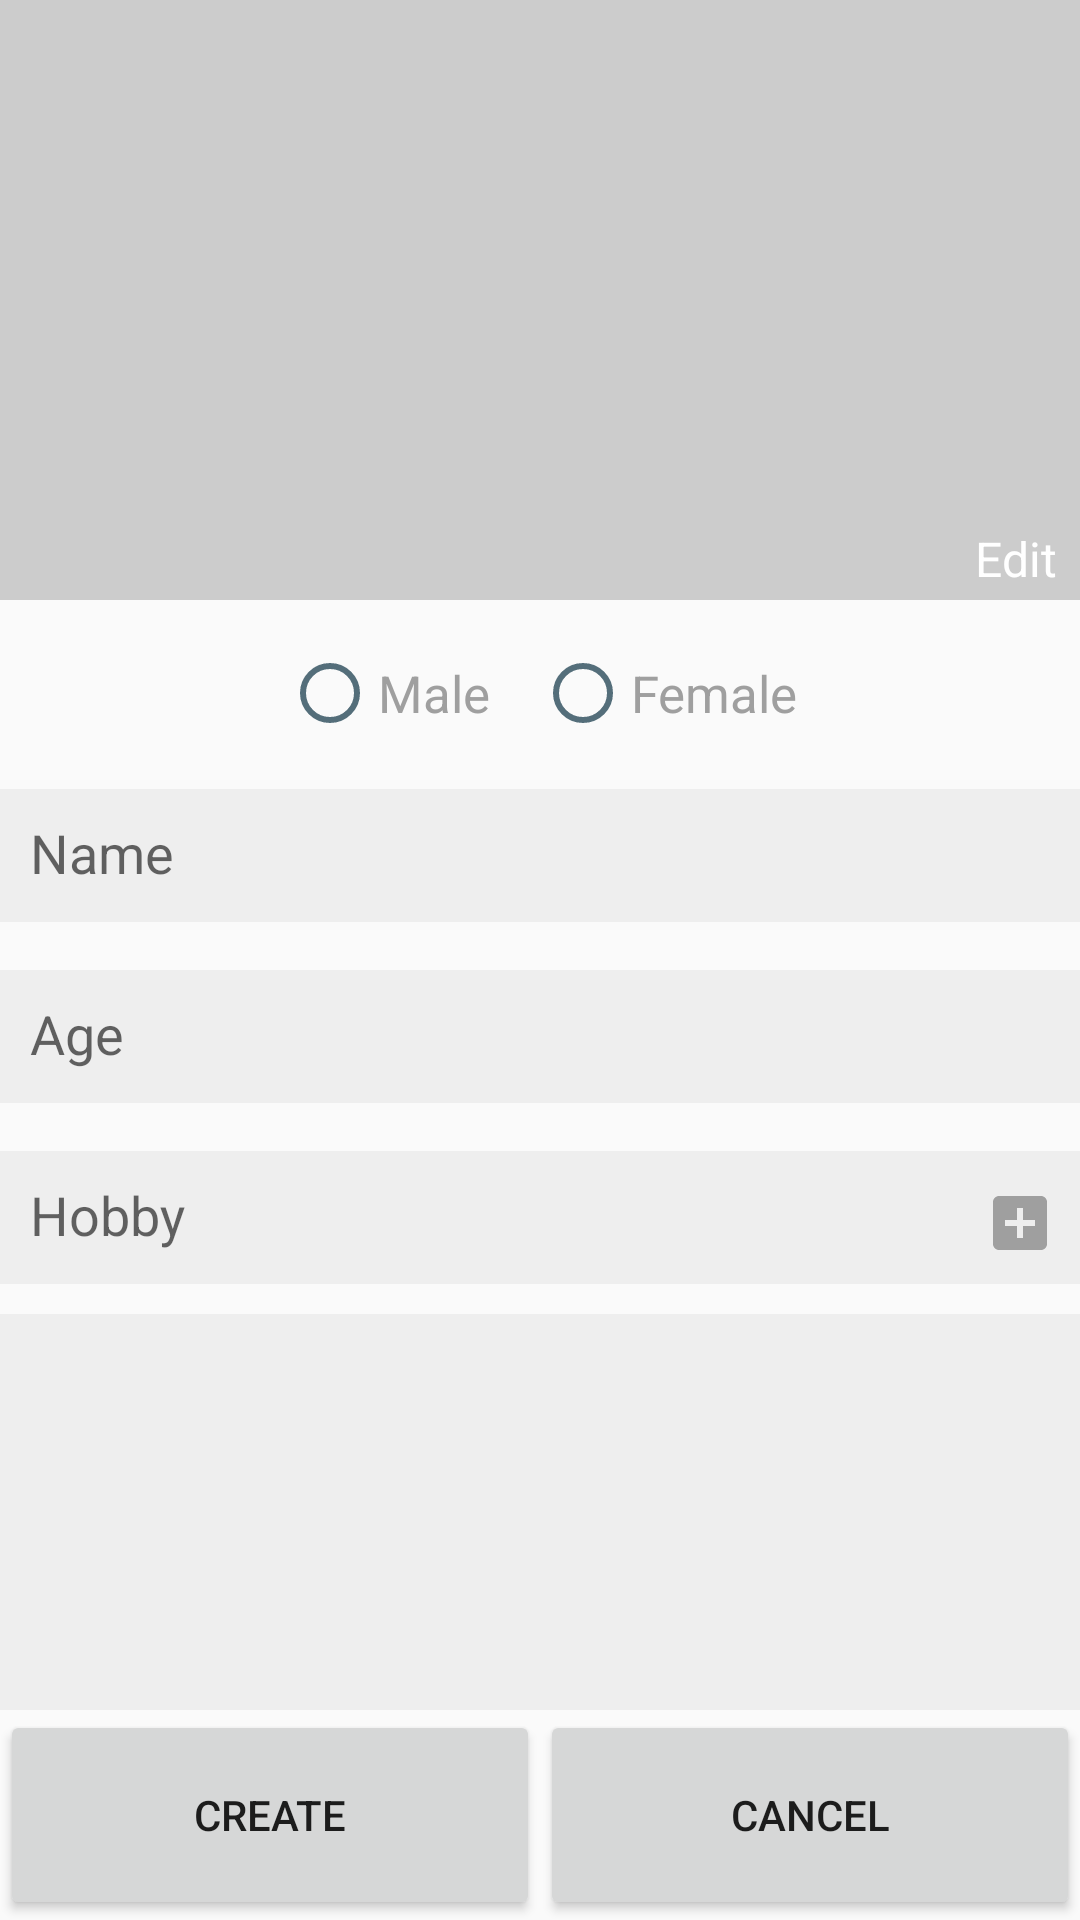

Icons on this 1080×1920 Android screen, each with its box as (x1, y1, x2, y2):
add box: (993, 1196, 1047, 1250)
